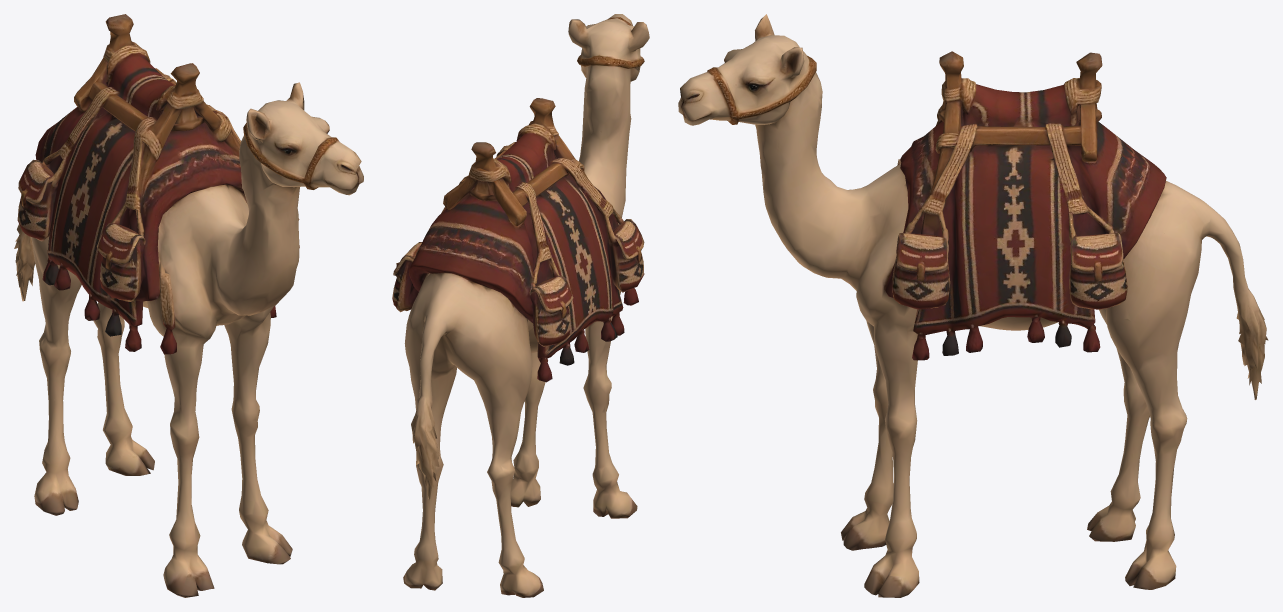
Rendered from camel.glb.
3 renders of one model, left to right at view 1: azimuth 30°, elevation 25°; view 2: azimuth 150°, elevation 25°; view 3: azimuth 270°, elevation 25°, orthographic. The views are drawn at different scales.
Visible parts, largest first — view 1: tripo_node_caef3af5-adb1-49d5-b972-f16eb6649297; view 2: tripo_node_caef3af5-adb1-49d5-b972-f16eb6649297; view 3: tripo_node_caef3af5-adb1-49d5-b972-f16eb6649297.
Part boxes in pixels (x1=…): tripo_node_caef3af5-adb1-49d5-b972-f16eb6649297: x1=14, y1=14, x2=363, y2=597; tripo_node_caef3af5-adb1-49d5-b972-f16eb6649297: x1=392, y1=14, x2=649, y2=597; tripo_node_caef3af5-adb1-49d5-b972-f16eb6649297: x1=678, y1=14, x2=1268, y2=597.
Size of the model in its own units: 0.3877 by 1 by 0.9967.
Materials: 1 (1 with a texture image).
